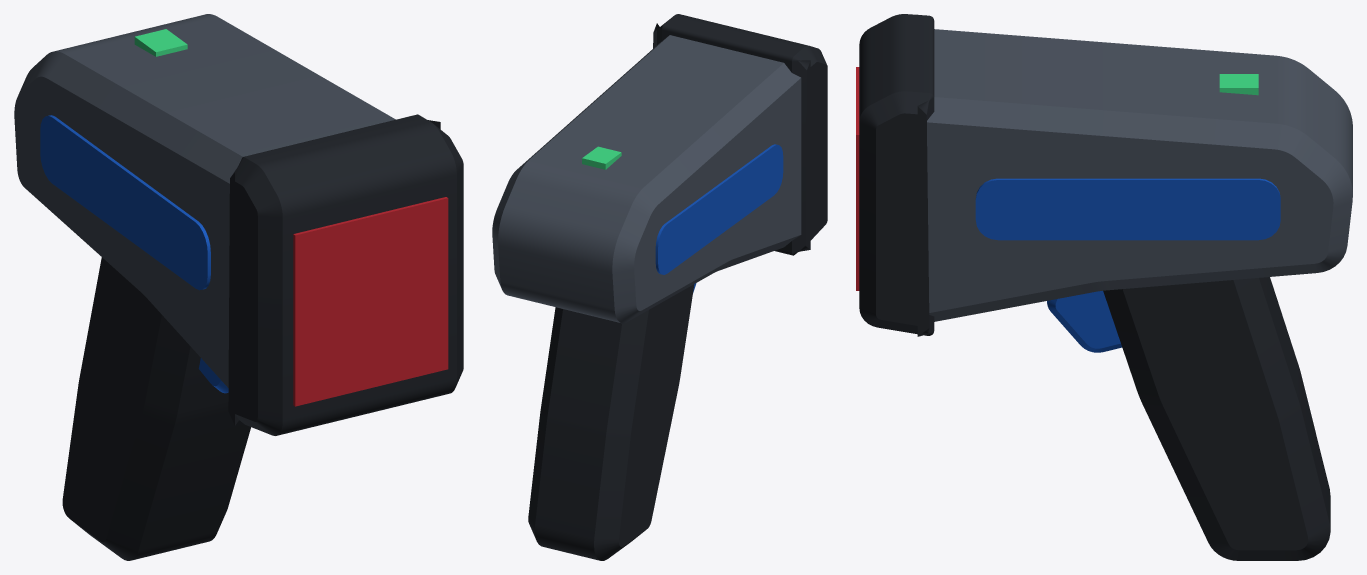
Rendered from Scanner.obj.
The picture shows the model from 3 angles, left to right: view 1: azimuth 30°, elevation 25°; view 2: azimuth 150°, elevation 25°; view 3: azimuth 270°, elevation 25°; orthographic projection. The views are drawn at different scales.
Parts seen in each view (by area): view 1: Scanner_Body, Scanner_Window, Scanner_LED; view 2: Scanner_Body, Scanner_LED; view 3: Scanner_Body, Scanner_Trigger, Scanner_Window, Scanner_LED.
Boxes of the visible parts, x1,y1,x2,y2 form: Scanner_Body: (14, 14, 463, 560); Scanner_Window: (293, 197, 448, 406); Scanner_LED: (134, 29, 187, 56); Scanner_Body: (492, 14, 827, 560); Scanner_LED: (582, 146, 621, 169); Scanner_Body: (859, 14, 1352, 560); Scanner_Trigger: (1047, 291, 1122, 352); Scanner_Window: (856, 67, 859, 290); Scanner_LED: (1219, 74, 1258, 95).
Size of the model in its own units: 0.078 by 0.1953 by 0.1792.
